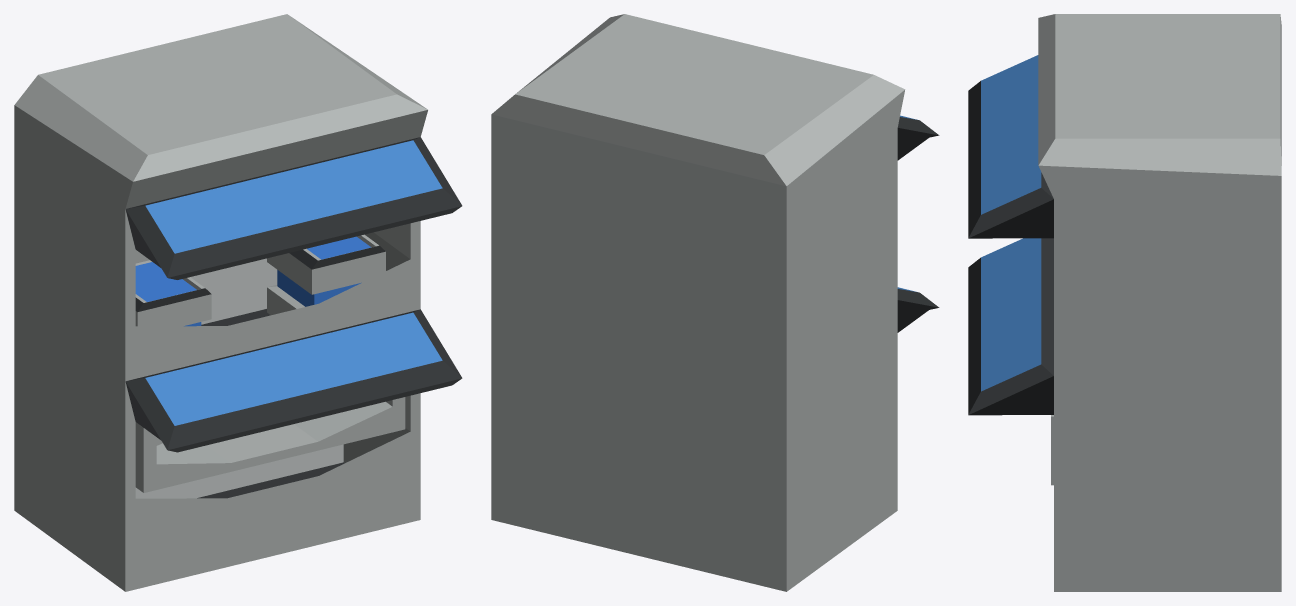
The model's file is Building2fbx.fbx.
3 views of the same model, side by side, from view 1: azimuth 30°, elevation 25°; view 2: azimuth 150°, elevation 25°; view 3: azimuth 270°, elevation 25° (orthographic). The views are drawn at different scales.
Visible parts, largest first — view 1: Cube.172; view 2: Cube.172; view 3: Cube.172.
Boxes of the visible parts, x1=… form: Cube.172: x1=14, y1=14, x2=462, y2=591; Cube.172: x1=491, y1=14, x2=939, y2=591; Cube.172: x1=968, y1=14, x2=1281, y2=591.
Bounding box in the file's own units: 702 × 978 × 629.
